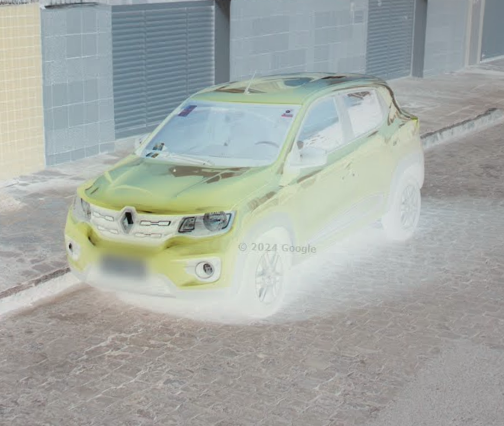car: (60, 66, 428, 321)
